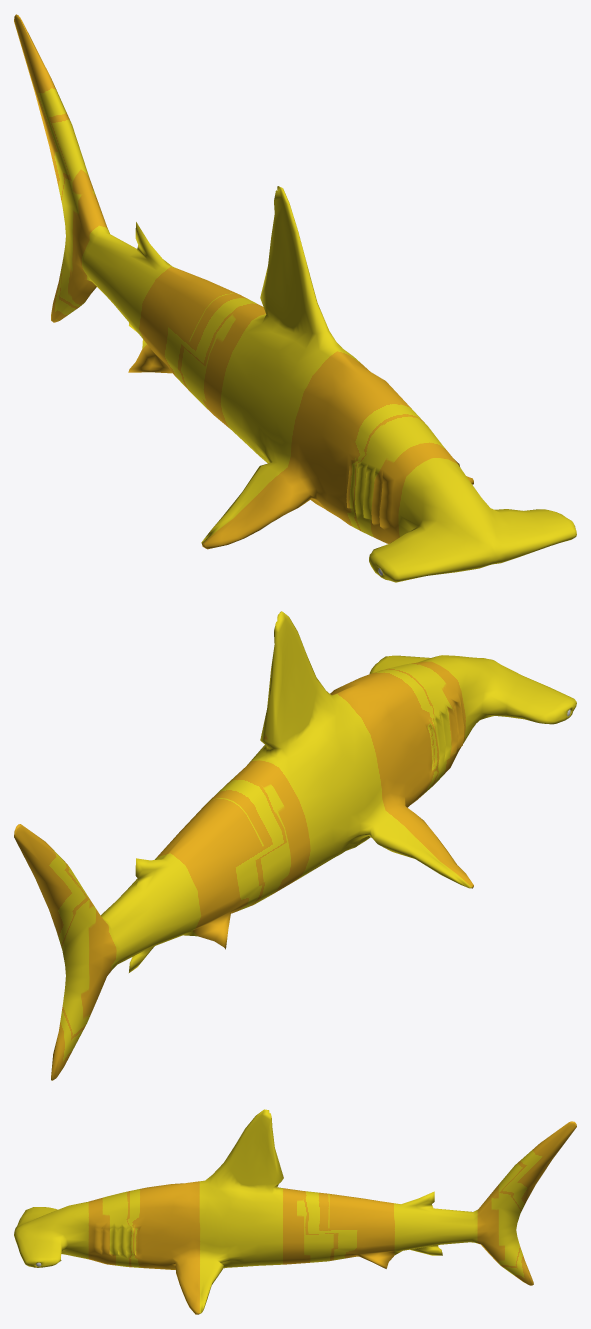
The model's file is Hummer.obj.
3 views of the same model, one above another, from view 1: azimuth 30°, elevation 25°; view 2: azimuth 150°, elevation 25°; view 3: azimuth 270°, elevation 25° (orthographic). The views are drawn at different scales.
Visible parts, largest first — view 1: hhd_body; view 2: hhd_body; view 3: hhd_body.
Boxes of the visible parts, left/top/right/bottom form: hhd_body: left=14, top=14, right=576, bottom=582; hhd_body: left=14, top=611, right=576, bottom=1080; hhd_body: left=14, top=1109, right=576, bottom=1314.
Bounding box in the file's own units: 0.8224 × 0.878 × 2.54.
Materials: 2 (1 with a texture image).
